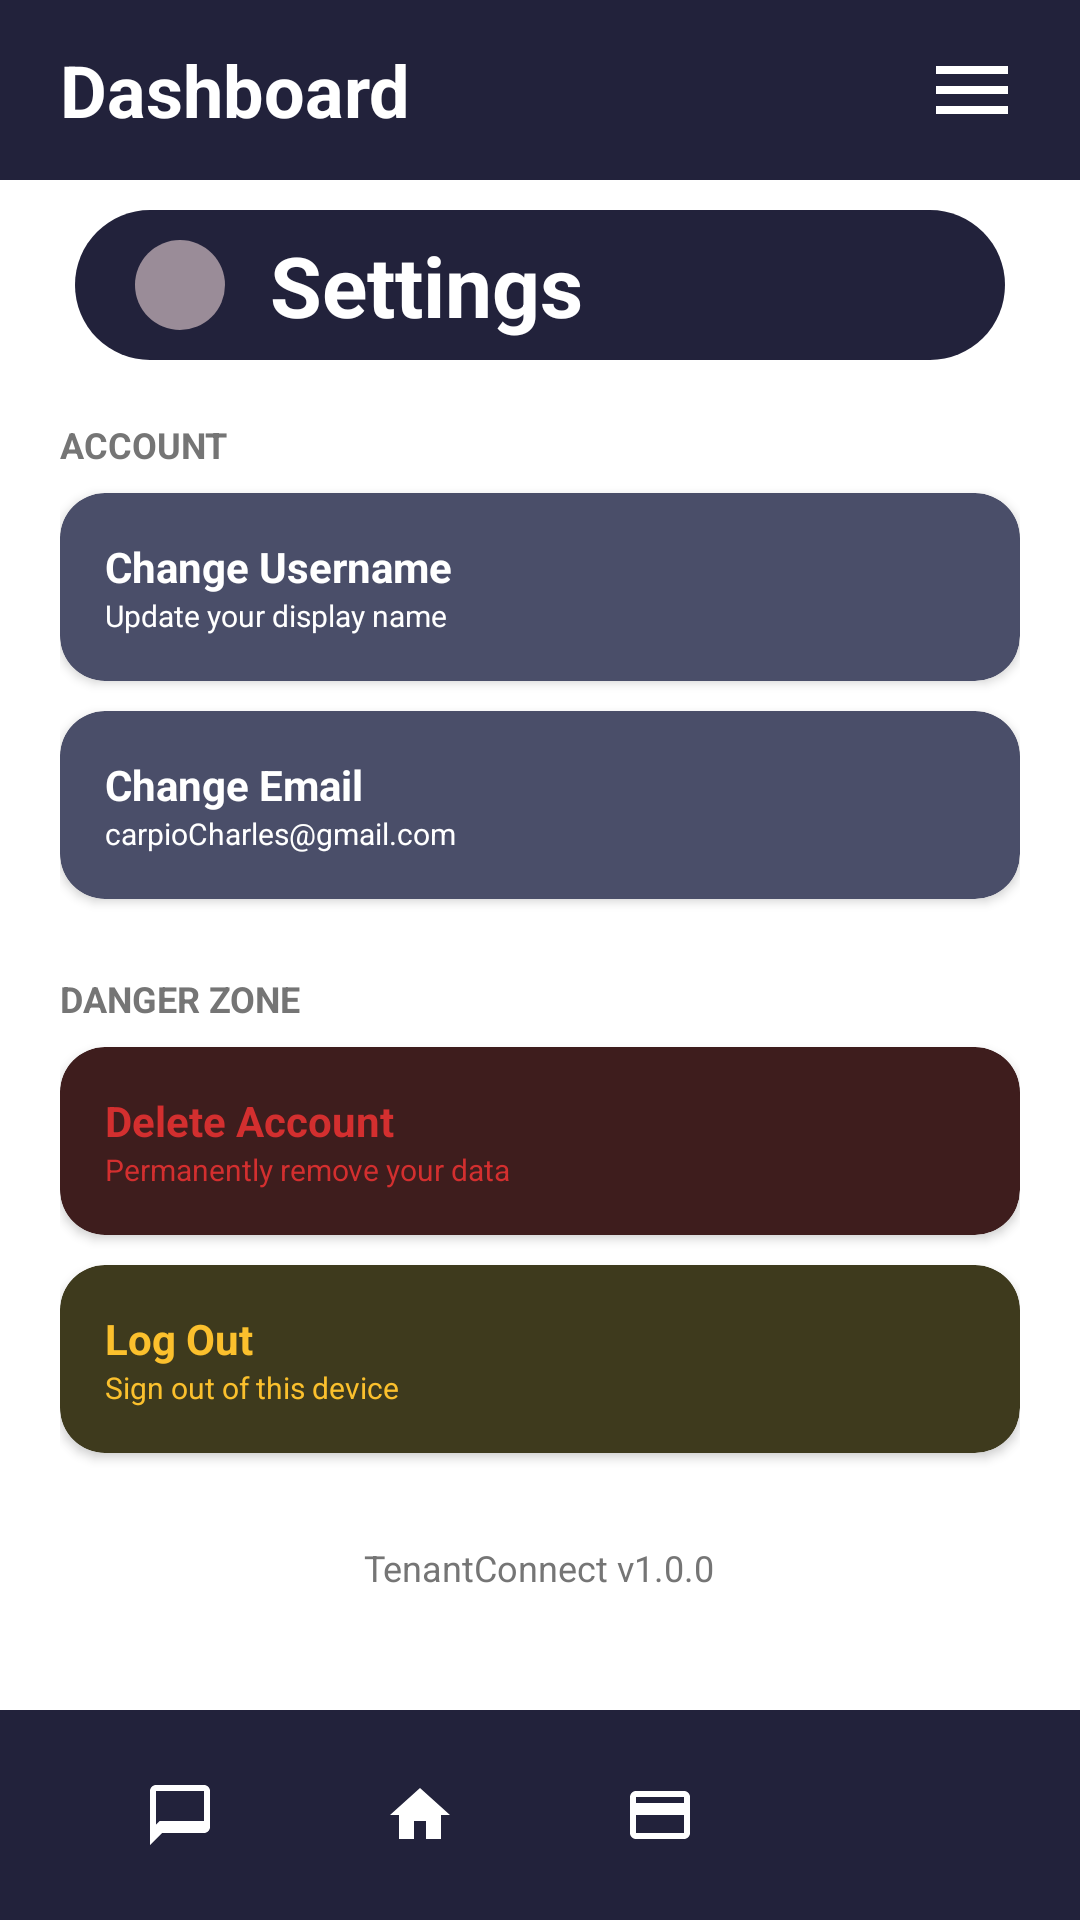

Screen size 1080 × 1920. Icon name, then its center in pixels as (x,y):
Home: (420,1813)
Menu: (972,90)
Messages: (180,1815)
Payments: (660,1815)
